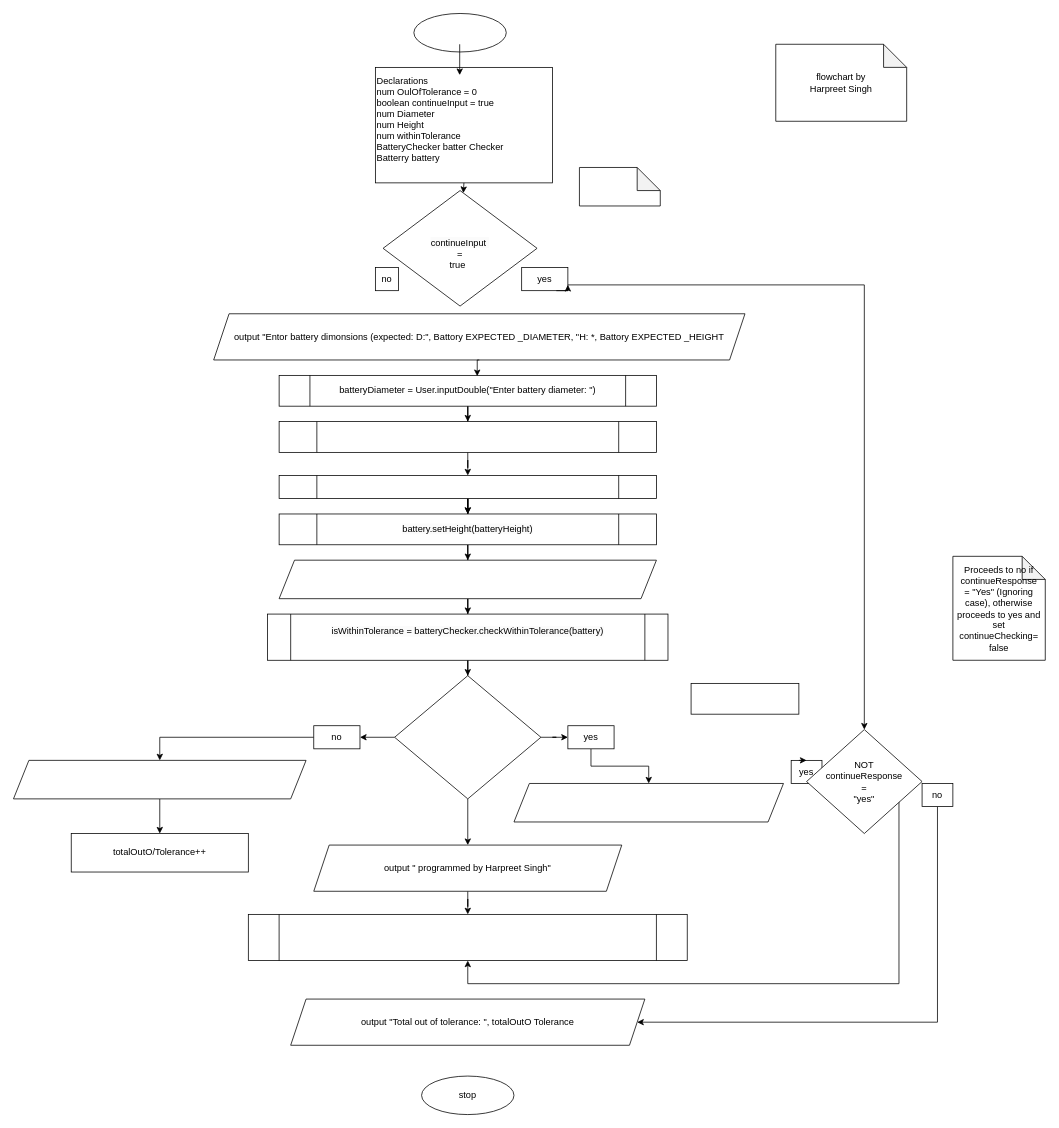
Some shapes in this 1059 by 1128 pixel diagram are drawn without their labels. Each missing label, with the centre of its shape:
battery.setDiameter(battery Diameter): point 467,487
batteryDiameter = User.inputDouble("Enter battery height: "): point 467,436
cantinueChecking = false: point 744,698
continueResponse = User.inputString/"Continue checking? (e.g.: YES) "): point 467,937
output "The battery is not within tolerance.": point 159,779
output "The battery is within tolerance.": point 648,802
output battery.toString(): point 467,579
start: point 459,32
while loop: point 619,186
WithinTolerance = true: point 467,737
